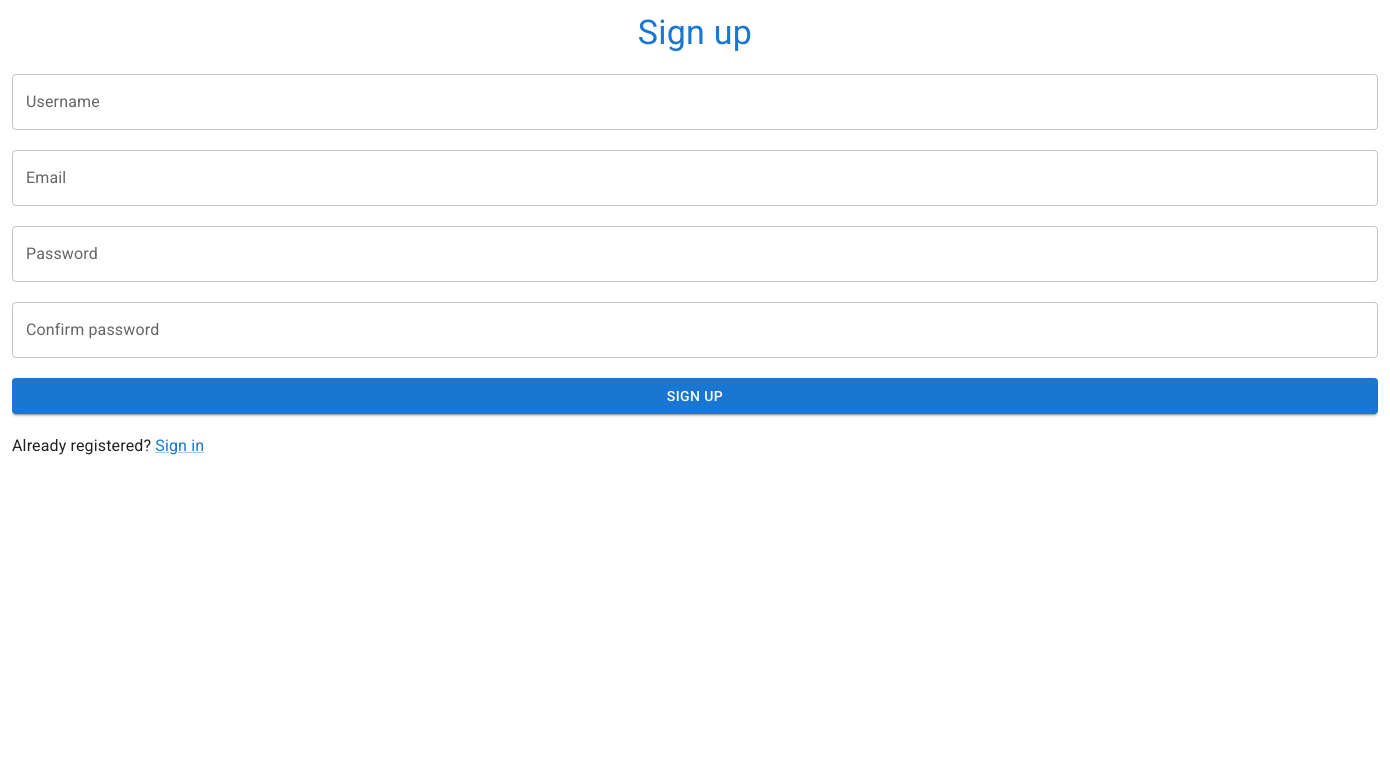
register form › should display required errors if submitting form with empty data
# Submit form
Click the button "Sign up" at x=695, y=396, box [12, 378, 1378, 414]
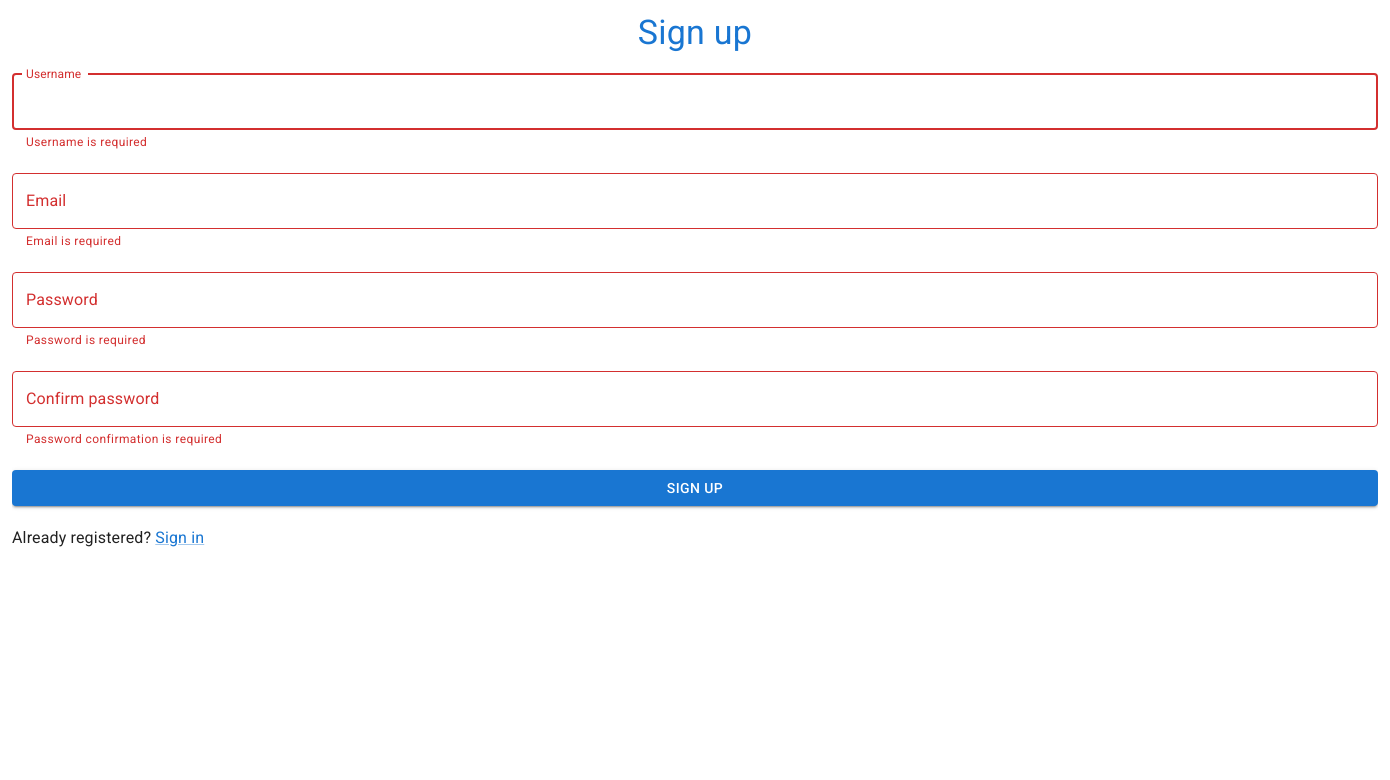
Now the text "Username is required" is shown, box [26, 135, 147, 149]
Now the text "Email is required" is shown, box [26, 234, 121, 248]
Now the text "Password is required" is shown, box [26, 333, 146, 347]
